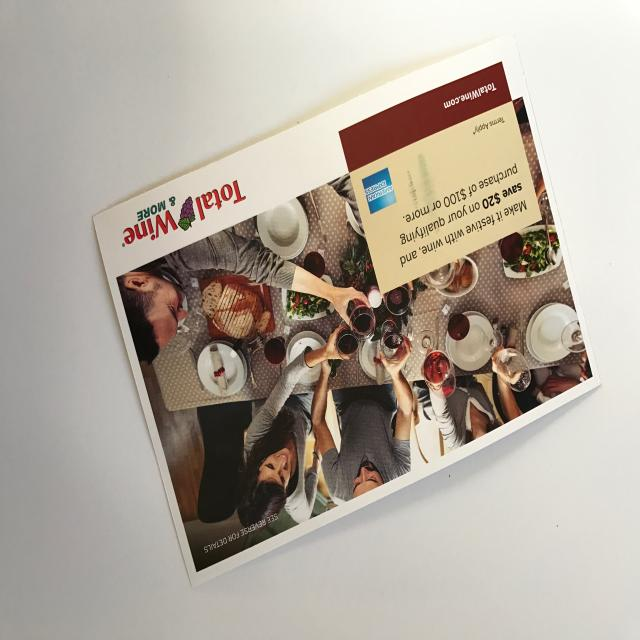paper: (95, 28, 602, 584)
